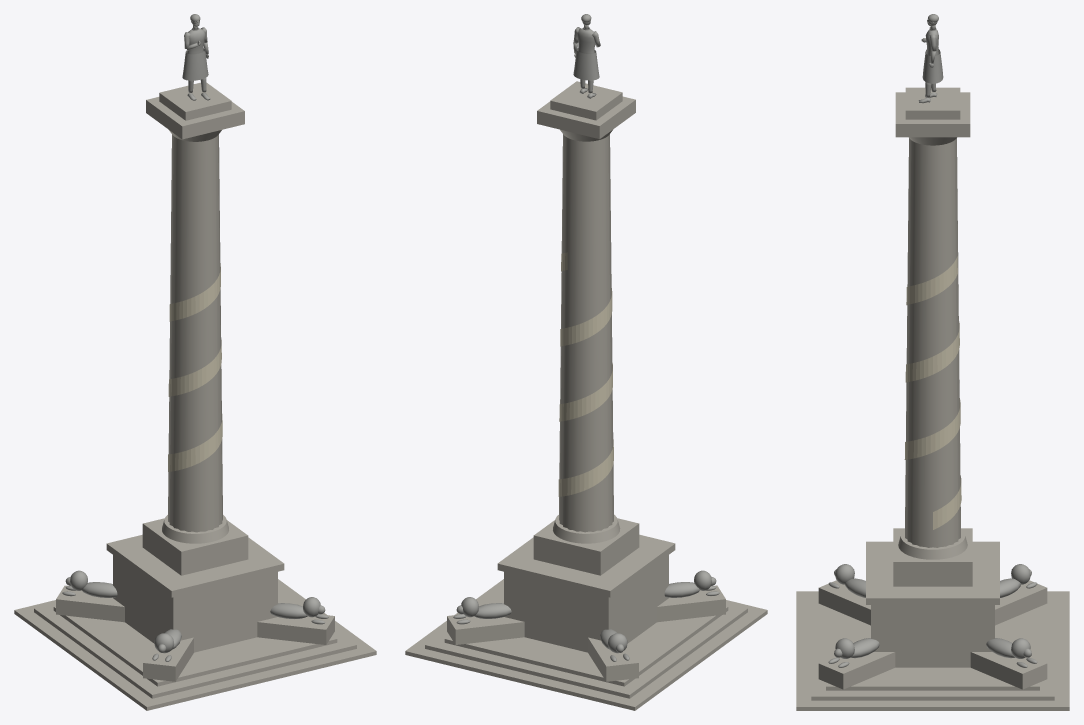
File: monument.glb
3 renders of one model, left to right at view 1: azimuth 30°, elevation 25°; view 2: azimuth 150°, elevation 25°; view 3: azimuth 270°, elevation 25°, orthographic. The views are drawn at different scales.
Parts seen in each view (by area): view 1: monument, statue; view 2: monument, statue; view 3: monument, statue.
Part boxes in pixels (bbox=[...]): monument: bbox=[14, 82, 376, 710]; statue: bbox=[182, 14, 210, 100]; monument: bbox=[405, 81, 767, 710]; statue: bbox=[573, 14, 600, 98]; monument: bbox=[796, 87, 1069, 710]; statue: bbox=[918, 14, 943, 103].
Size of the model in its own units: 22 by 56.71 by 22.
